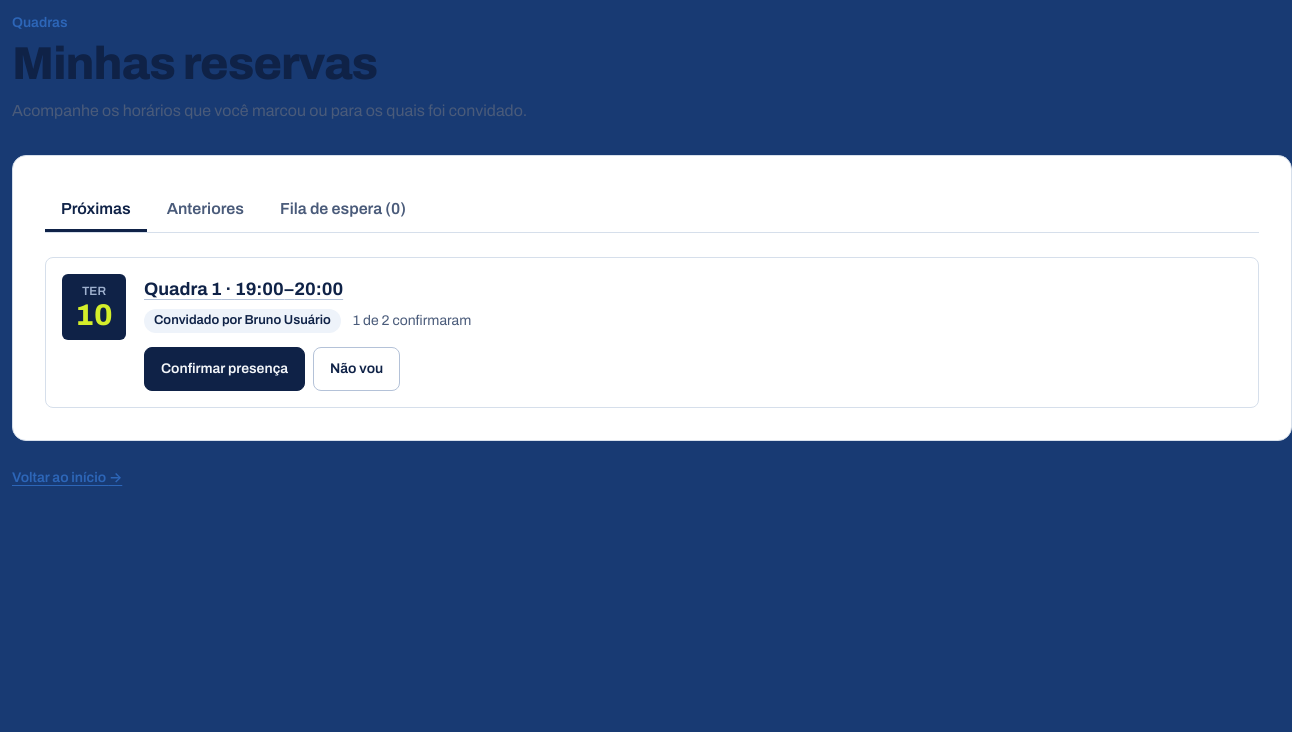
Test: BookingsPage presença › convidado responde no próprio card e a contagem muda
Click the button "Confirmar presença": (225, 369) [144, 347, 305, 391]
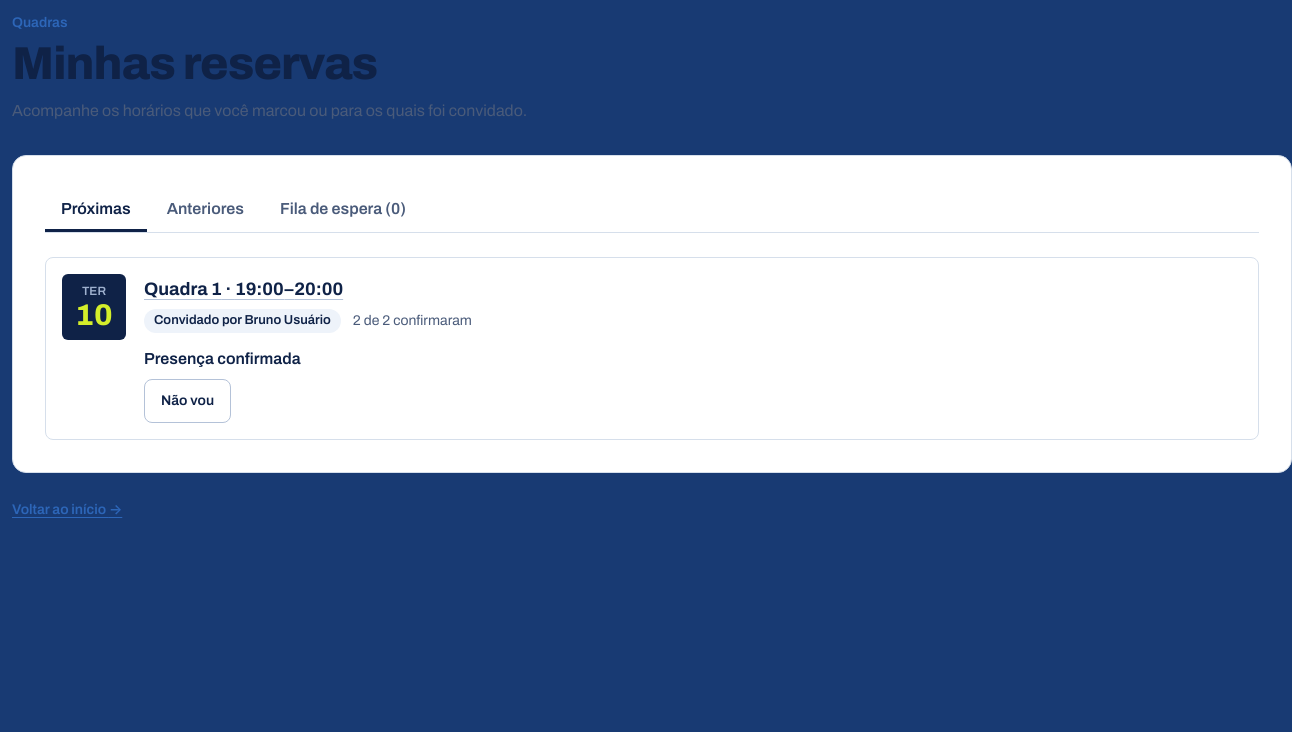
Expected: the text "Presença confirmada" is shown, [144, 350, 301, 367]
Expected: the text "2 de 2 confirmaram" is shown, [353, 310, 472, 331]
